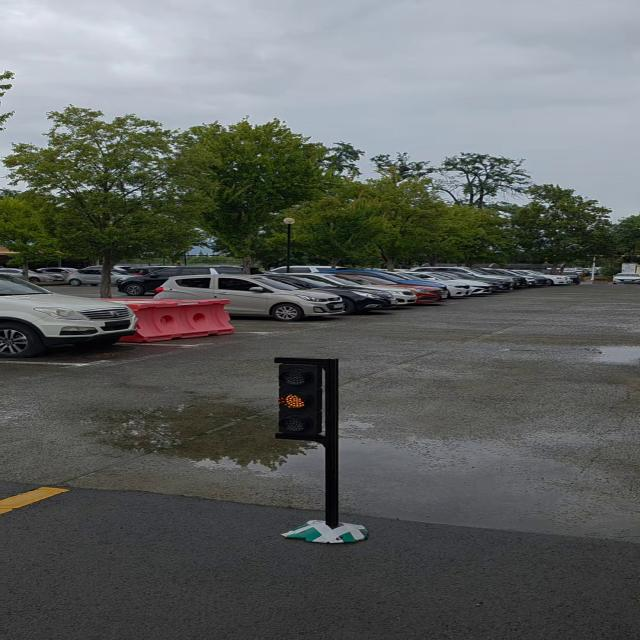yellow: (272, 358, 329, 438)
